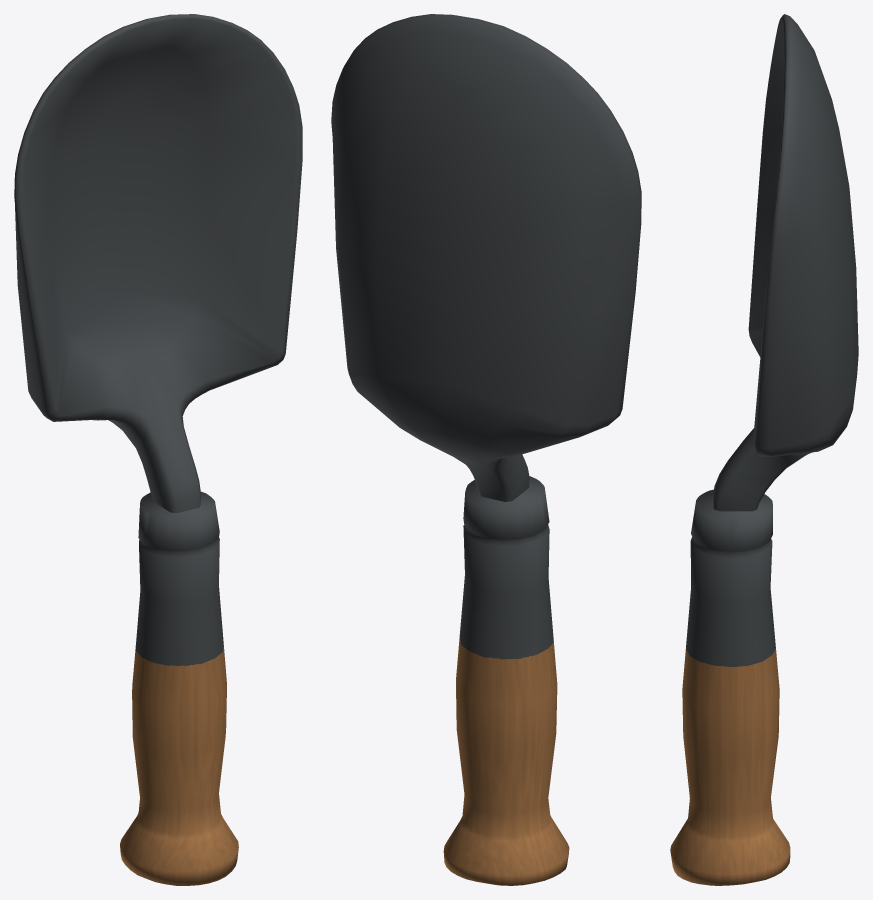
The model's file is clam_spade.fbx.
3 renders of one model, left to right at view 1: azimuth 30°, elevation 25°; view 2: azimuth 150°, elevation 25°; view 3: azimuth 270°, elevation 25°, orthographic. The views are drawn at different scales.
Visible parts, largest first — view 1: clam_spade; view 2: clam_spade; view 3: clam_spade.
Boxes of the visible parts, bbox=[...] form: clam_spade: bbox=[14, 14, 302, 885]; clam_spade: bbox=[331, 14, 641, 885]; clam_spade: bbox=[670, 14, 858, 885].
Bounding box in the file's own units: 0.1645 × 0.45 × 0.0919.
1 material, 1 textured.
